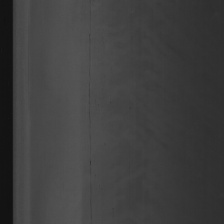inclusion: (86, 5, 95, 217)
